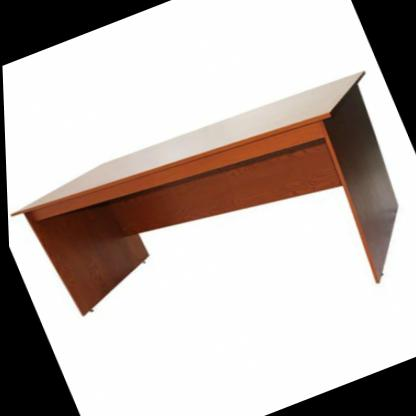Table: (1, 40, 416, 405)
